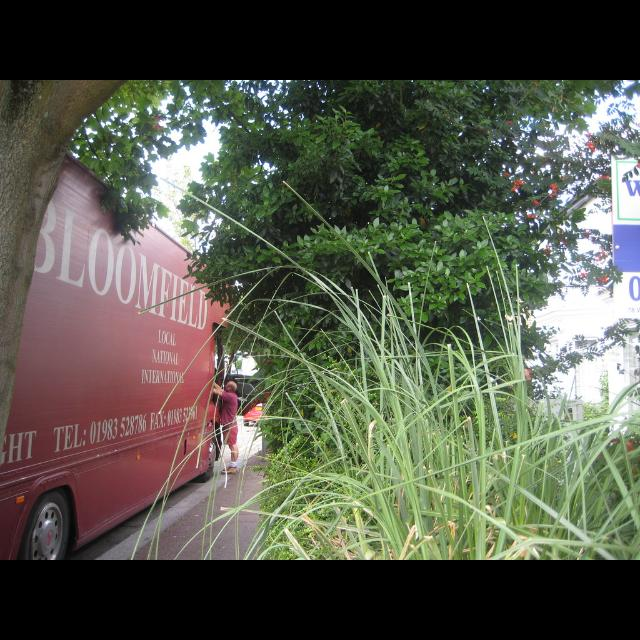Flower: (549, 182, 557, 200), (523, 368, 533, 382), (511, 181, 522, 193), (583, 140, 595, 150), (596, 274, 608, 284), (628, 438, 636, 452), (541, 248, 553, 255), (526, 213, 536, 219), (600, 173, 608, 179), (532, 200, 538, 207)
